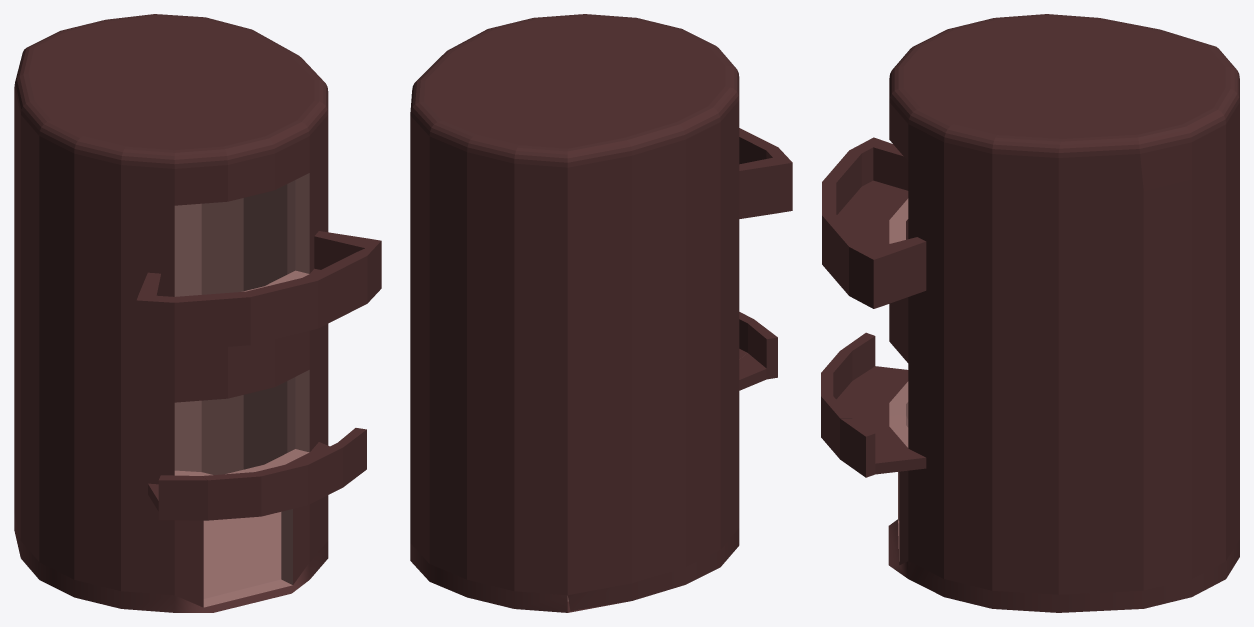
Rendered from house2.FBX.
3 renders of one model, left to right at view 1: azimuth 30°, elevation 25°; view 2: azimuth 150°, elevation 25°; view 3: azimuth 270°, elevation 25°, orthographic. The views are drawn at different scales.
Parts seen in each view (by area): view 1: Cylinder002; view 2: Cylinder002; view 3: Cylinder002.
Boxes of the visible parts, bbox=[...] form: Cylinder002: bbox=[14, 14, 381, 612]; Cylinder002: bbox=[410, 14, 792, 612]; Cylinder002: bbox=[821, 14, 1239, 612].
Bounding box in the file's own units: 240 × 387 × 314.
